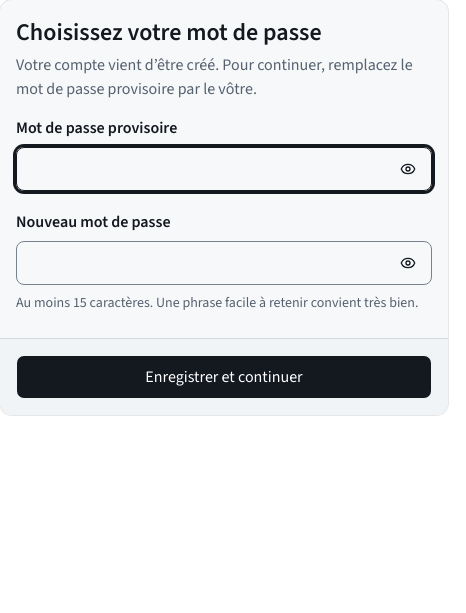
Scenario: ChangePasswordForm › tells a common password apart from a short one
Type "provisoire-12345" into the password field labelled "Mot de passe provisoire" at (224,169), box left=16, top=147, right=432, bottom=191
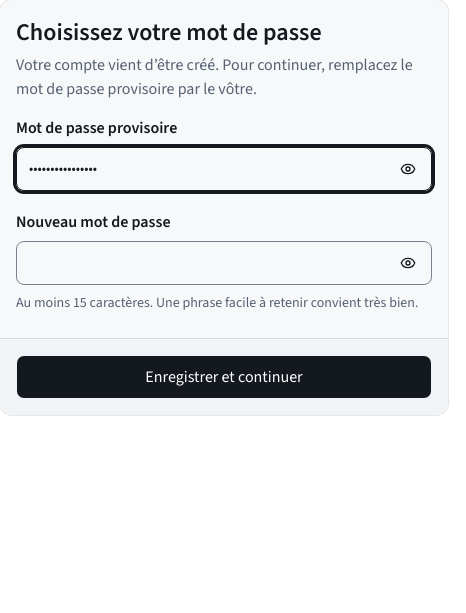
Type "motdepassemotdepasse" into the password field labelled "Nouveau mot de passe" at (224,263), box left=16, top=241, right=432, bottom=285
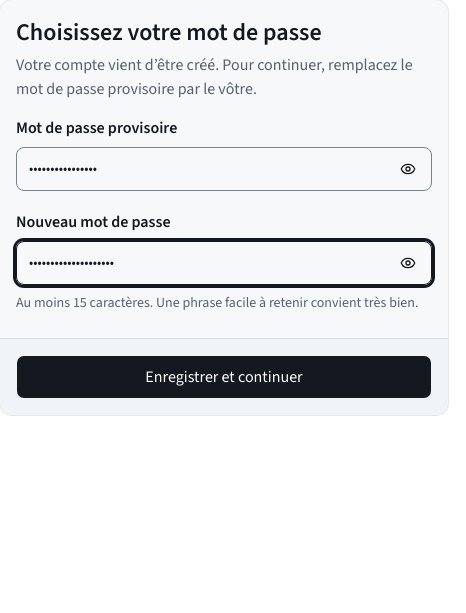
Click the button "Enregistrer et continuer" at (224,377), box left=16, top=355, right=432, bottom=399
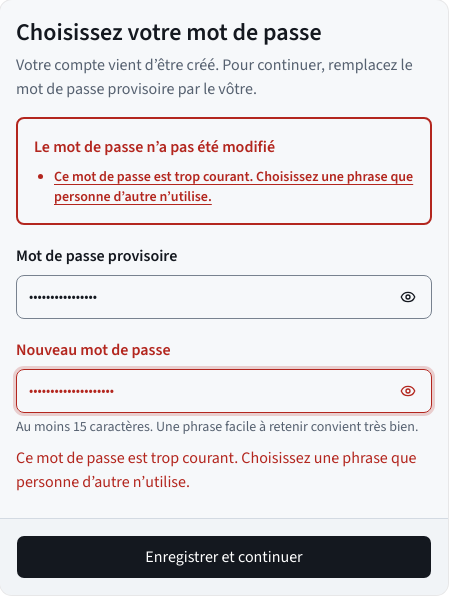
Expected: the message shows "Ce mot de passe est trop courant.", left=54, top=167, right=413, bottom=207
